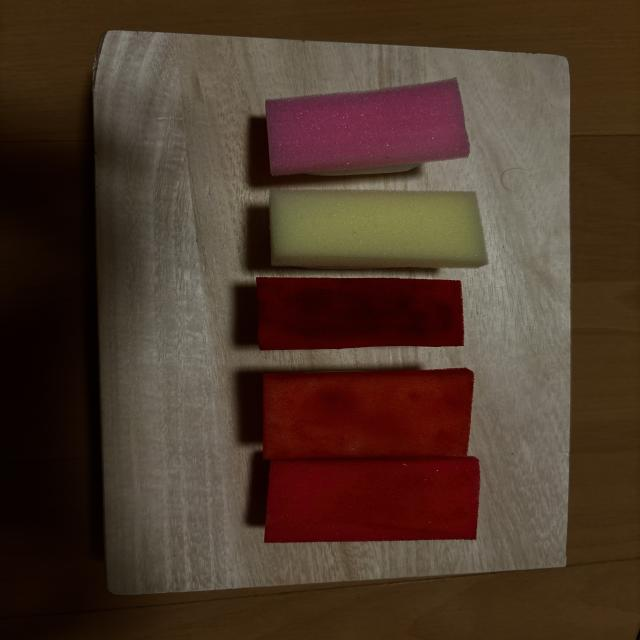maguro: (264, 457, 480, 543), (257, 277, 464, 350)
salmon: (263, 368, 474, 459)
tai: (266, 78, 469, 175)
tamago: (270, 190, 487, 268)
